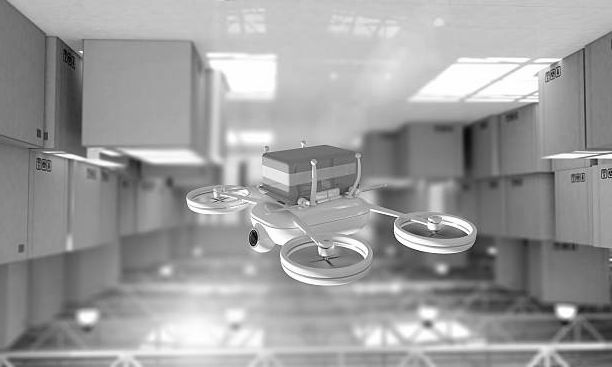Drone: (185, 181, 477, 286)
